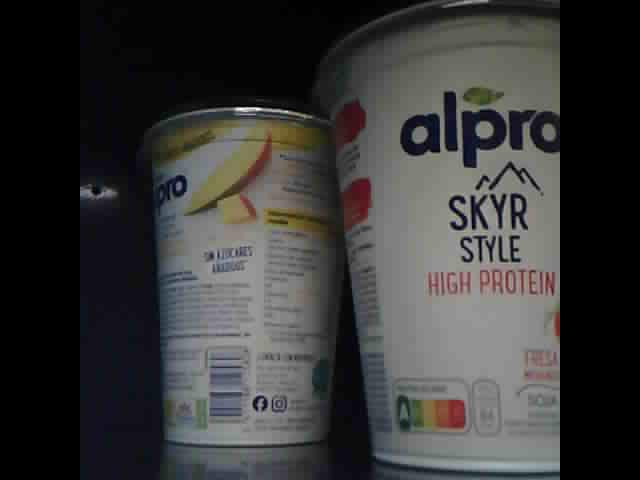alpro: (312, 3, 561, 473), (138, 96, 344, 451)
